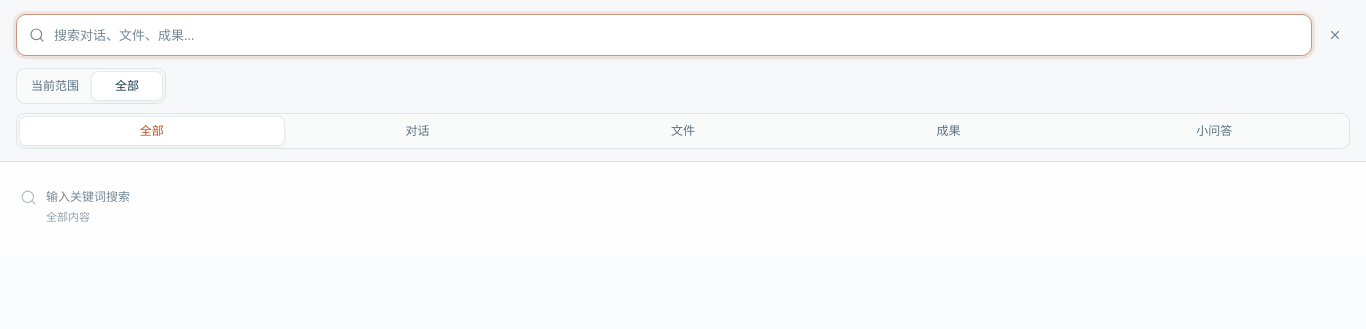
Test case: GlobalSearchPage › shows no results message when no matches
This screenshot has width=1366, height=329.
Type "不存在的内容xyz" into the field with placeholder "搜索对话、文件、成果..." at (678, 35), box [54, 26, 1301, 44]
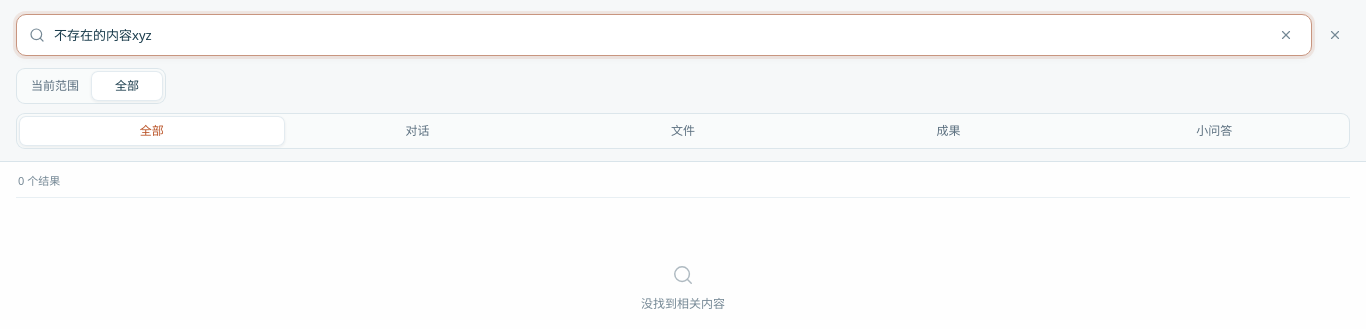
Expected: the text "没找到相关内容" is shown, [641, 295, 725, 313]
